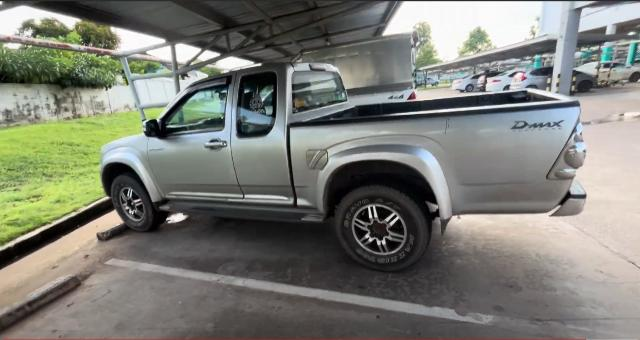pickup-truck: (101, 62, 588, 267)
